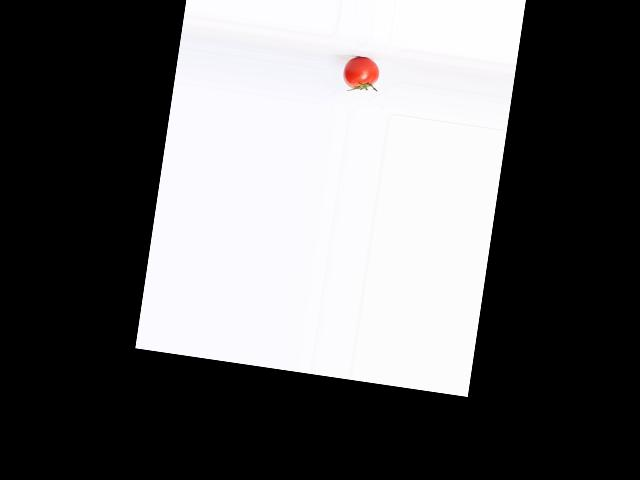tomato: (340, 54, 380, 91)
